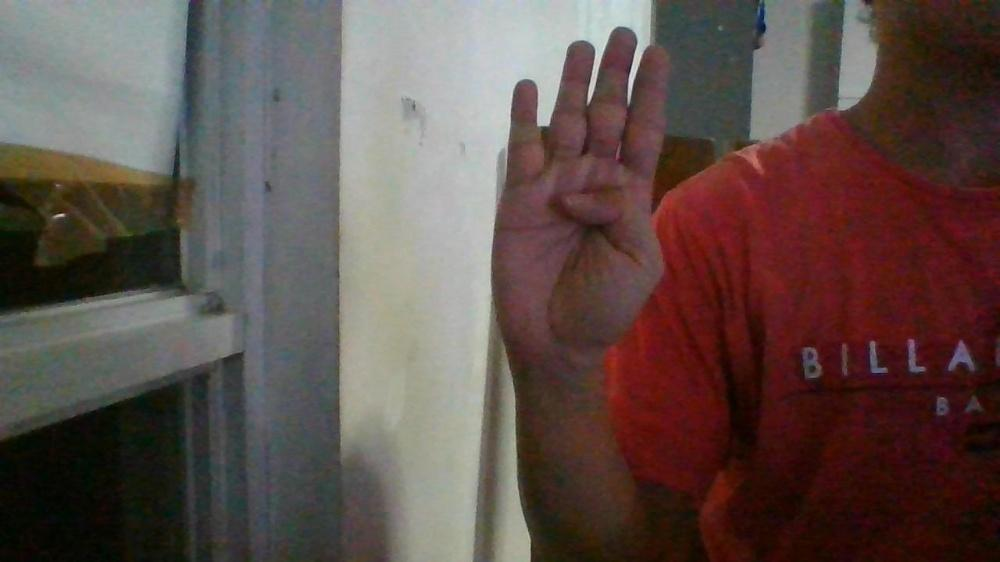b: (489, 24, 673, 345)
